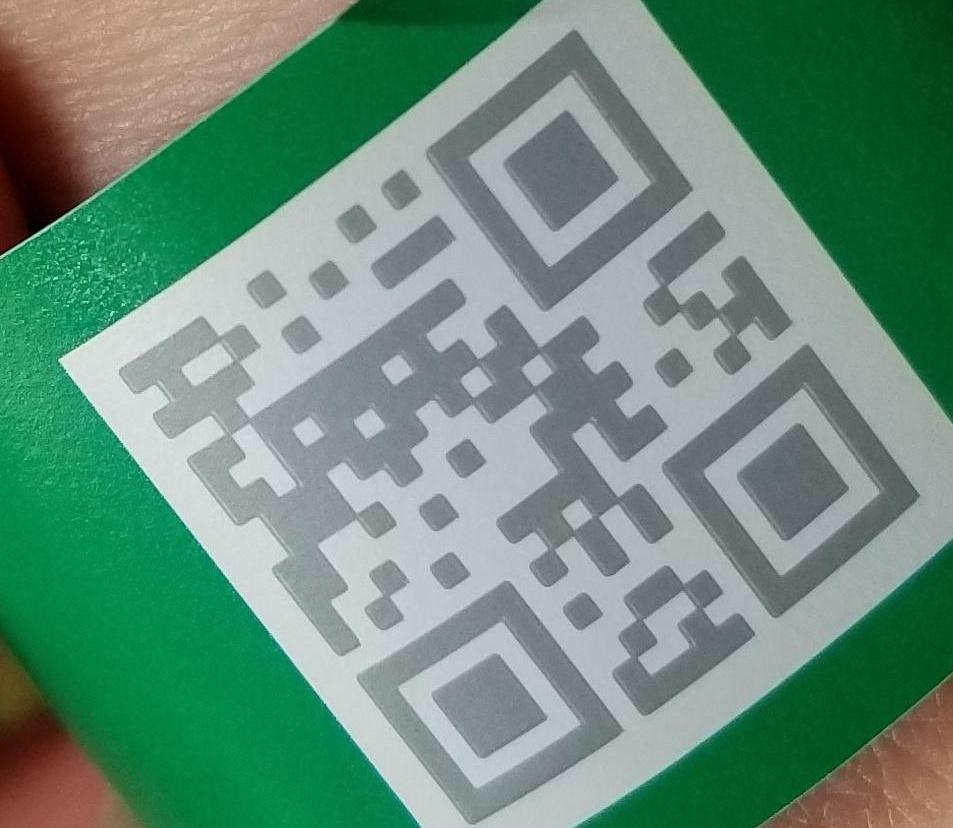qrcode: (118, 27, 922, 825)
